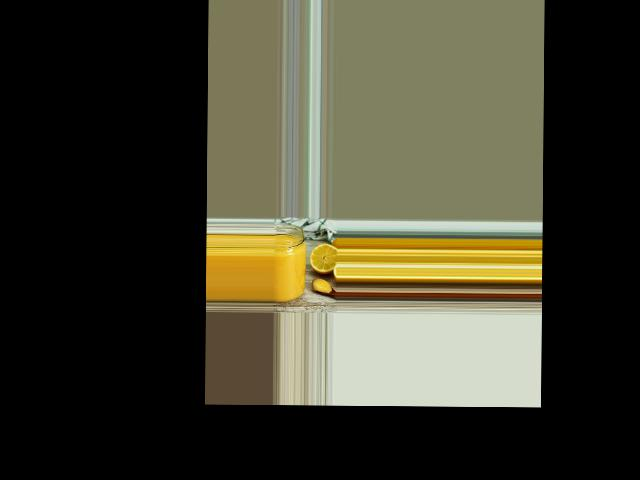lemon: (309, 242, 335, 273)
